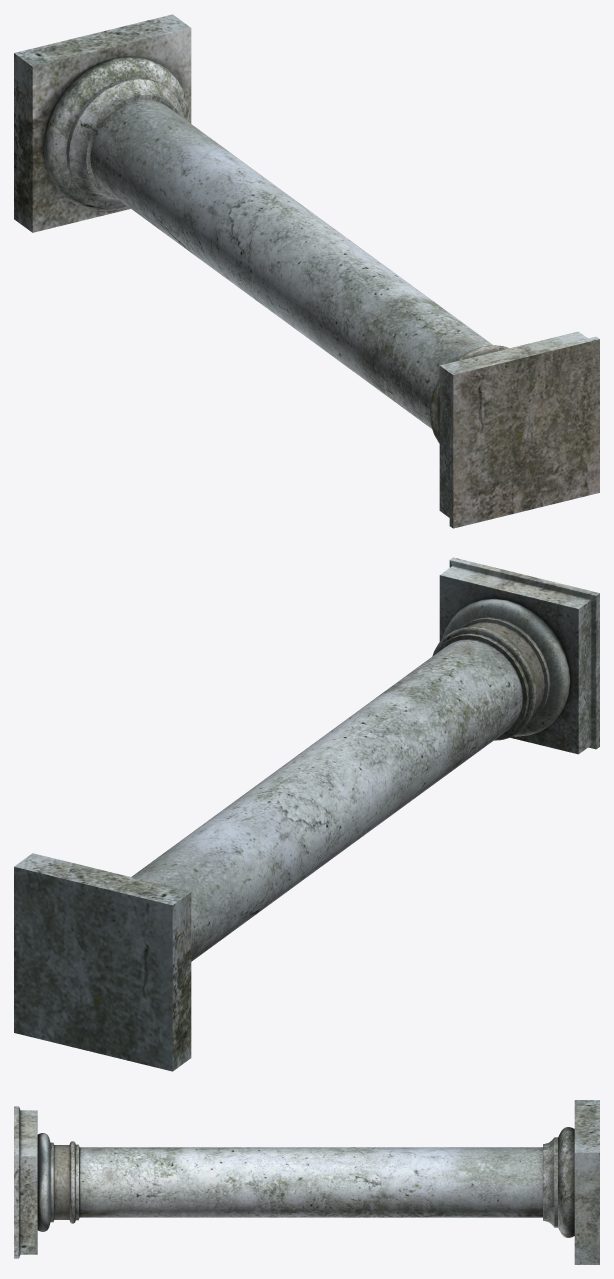
The model's file is plc0012-student-Doric Column.glb.
3 renders of one model, top to bottom at view 1: azimuth 30°, elevation 25°; view 2: azimuth 150°, elevation 25°; view 3: azimuth 270°, elevation 25°, orthographic. The views are drawn at different scales.
Visible parts, largest first — view 1: 10409_Doric_Column_v1_SG; view 2: 10409_Doric_Column_v1_SG; view 3: 10409_Doric_Column_v1_SG.
Boxes of the visible parts, <box> form: 10409_Doric_Column_v1_SG: <box>14,14,599,528</box>; 10409_Doric_Column_v1_SG: <box>14,557,599,1071</box>; 10409_Doric_Column_v1_SG: <box>14,1100,599,1264</box>.
Bounding box in the file's own units: 80 × 80 × 378.
Materials: 1 (1 with a texture image).
